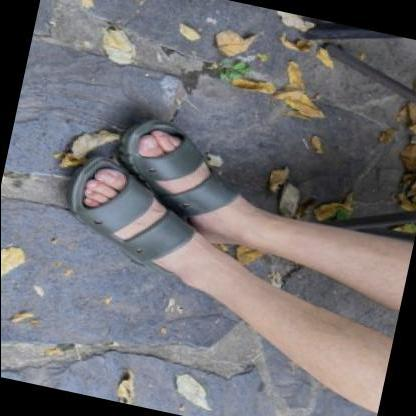no_safety-shoe: (32, 147, 202, 303), (104, 102, 273, 227)
